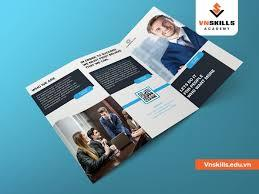paper: (26, 7, 244, 182)
